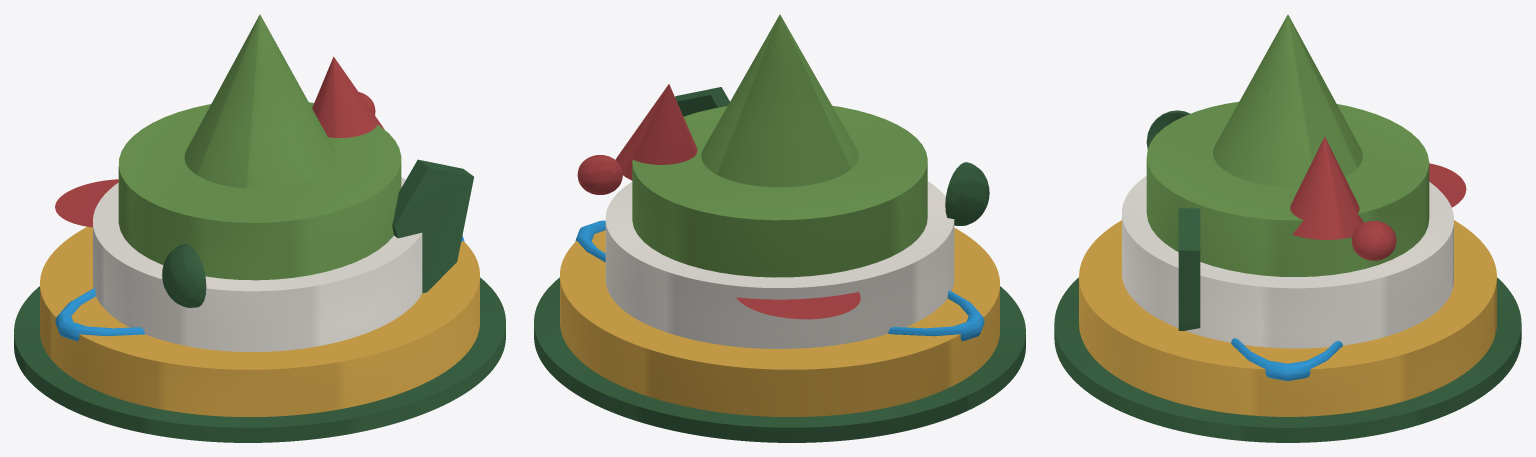
The model's file is 0643_地貌图鉴_溶洞.glb.
The picture shows the model from 3 angles, left to right: view 1: azimuth 30°, elevation 25°; view 2: azimuth 150°, elevation 25°; view 3: azimuth 270°, elevation 25°; orthographic projection.
Parts seen in each view (by area): view 1: card_0643; view 2: card_0643; view 3: card_0643.
Part boxes in pixels (x1,y1,x2,y2): card_0643: [14, 14, 505, 442]; card_0643: [534, 14, 1025, 442]; card_0643: [1054, 14, 1521, 442].
Bounding box in the file's own units: 1.38 × 1 × 1.3.
